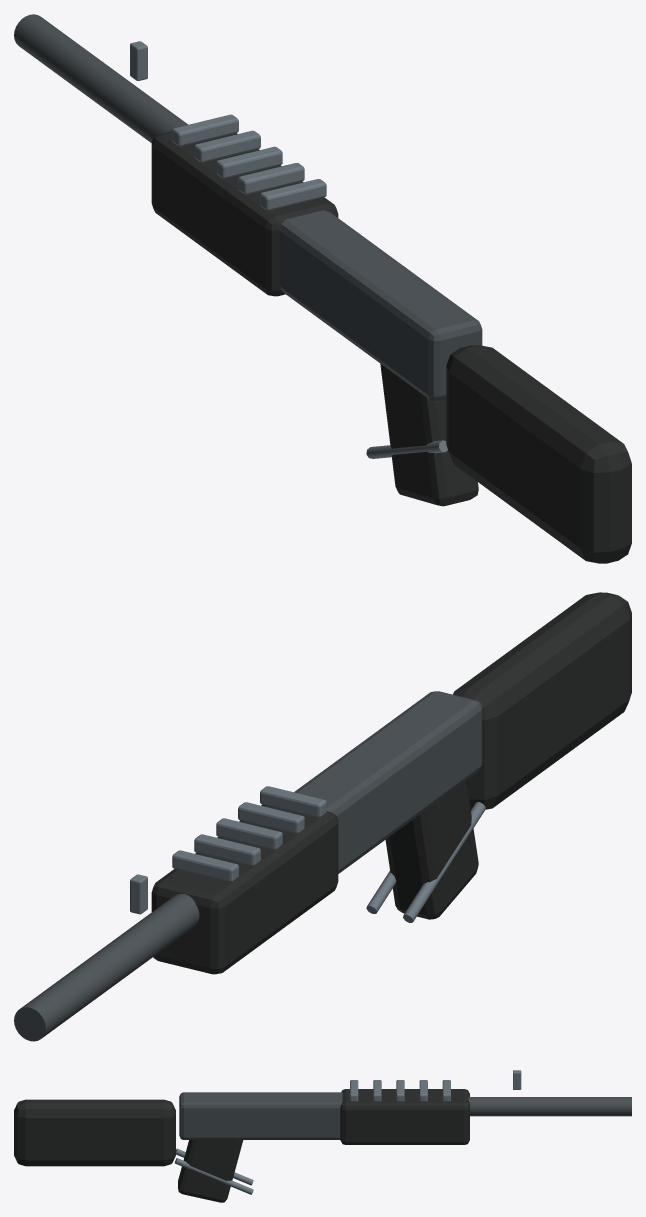
File: Shotgun.fbx
3 views of the same model, one above another, from view 1: azimuth 30°, elevation 25°; view 2: azimuth 150°, elevation 25°; view 3: azimuth 270°, elevation 25° (orthographic). The views are drawn at different scales.
Parts seen in each view (by area): view 1: Body.025; view 2: Body.025; view 3: Body.025.
Part boxes in pixels (x1,y1,x2,y2): Body.025: (14, 14, 631, 563); Body.025: (14, 592, 631, 1041); Body.025: (14, 1070, 631, 1202).
Size of the model in its own units: 0.095 by 0.3048 by 1.34.
